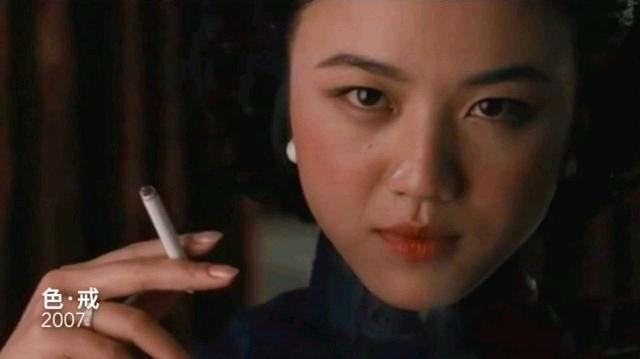SafeDriving: (444, 77, 548, 134), (318, 65, 408, 126)
Smoking: (138, 183, 206, 292)
